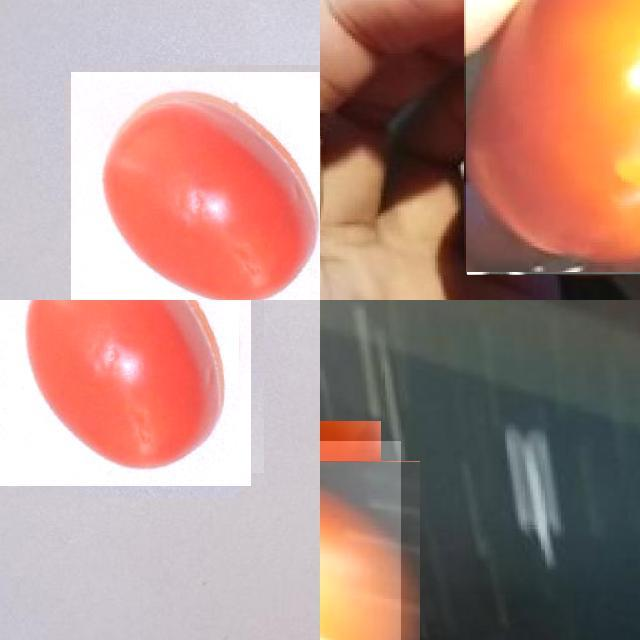Fresh Tomato: (71, 71, 320, 300), (465, 0, 640, 273), (0, 300, 251, 485)
